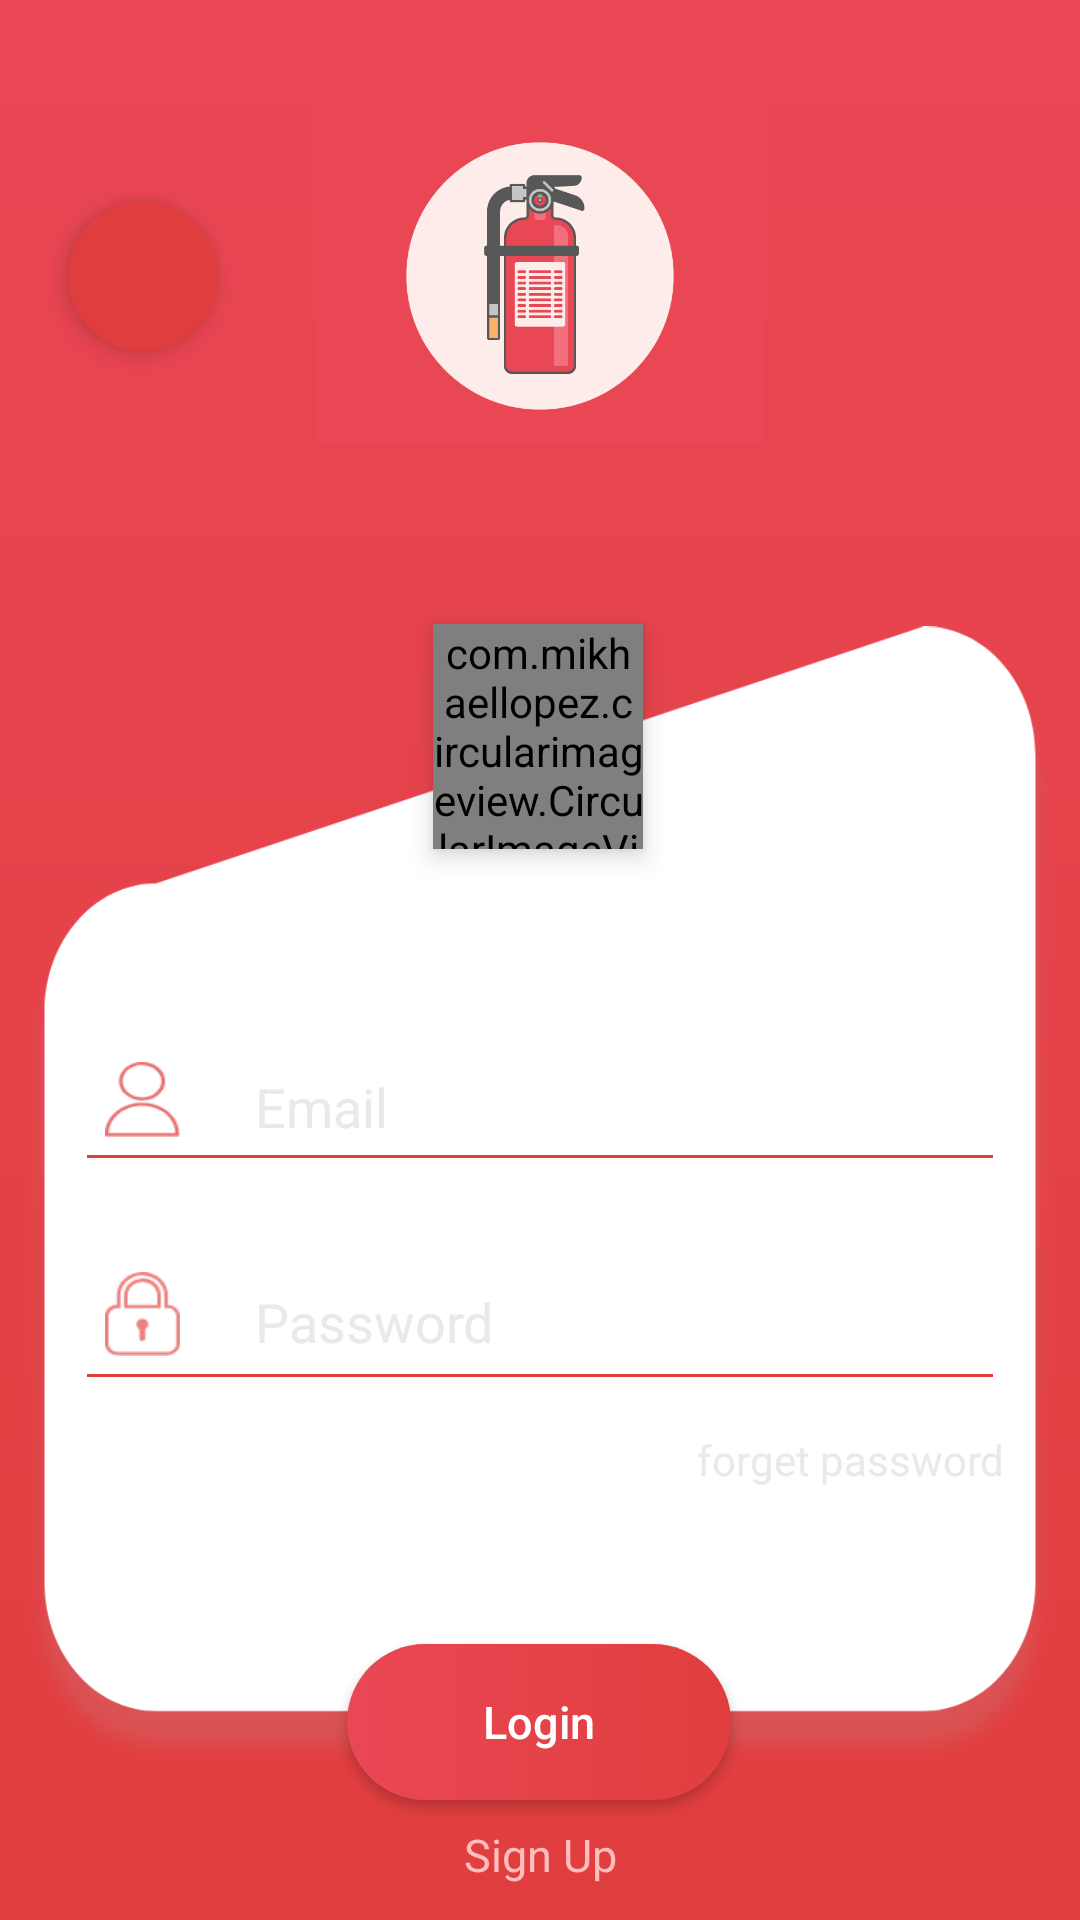

Icons on this 1080w x 1920h Android screen, each with its box as Rect(x1, y1, x2, y2):
fire extinguisher main: Rect(406, 142, 674, 410)
